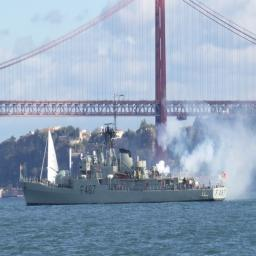Fragata: (19, 110, 231, 210)
